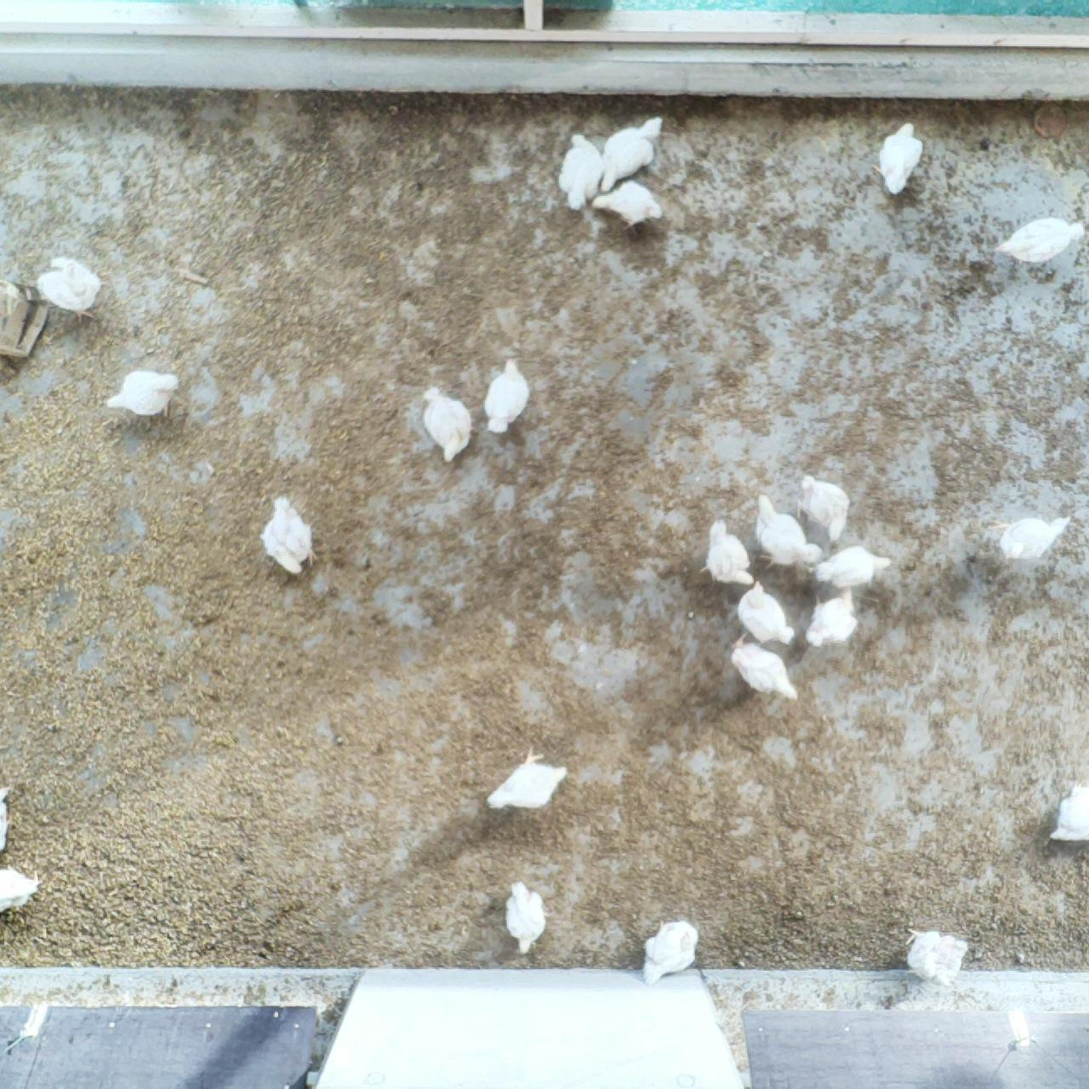chicken: (754, 495, 820, 573), (487, 747, 568, 810), (262, 490, 320, 575), (34, 255, 104, 323), (601, 117, 665, 191), (733, 636, 798, 703), (807, 544, 893, 592), (999, 216, 1084, 264), (904, 927, 972, 985), (424, 385, 473, 463), (737, 584, 795, 647), (645, 917, 698, 985), (105, 369, 180, 417), (558, 134, 606, 209), (483, 356, 529, 434), (992, 516, 1072, 560), (880, 121, 924, 196), (704, 521, 754, 585), (592, 182, 662, 225), (805, 476, 851, 541), (808, 589, 856, 647), (510, 880, 544, 955), (1048, 790, 1089, 841), (2, 871, 34, 915), (2, 791, 10, 854)
